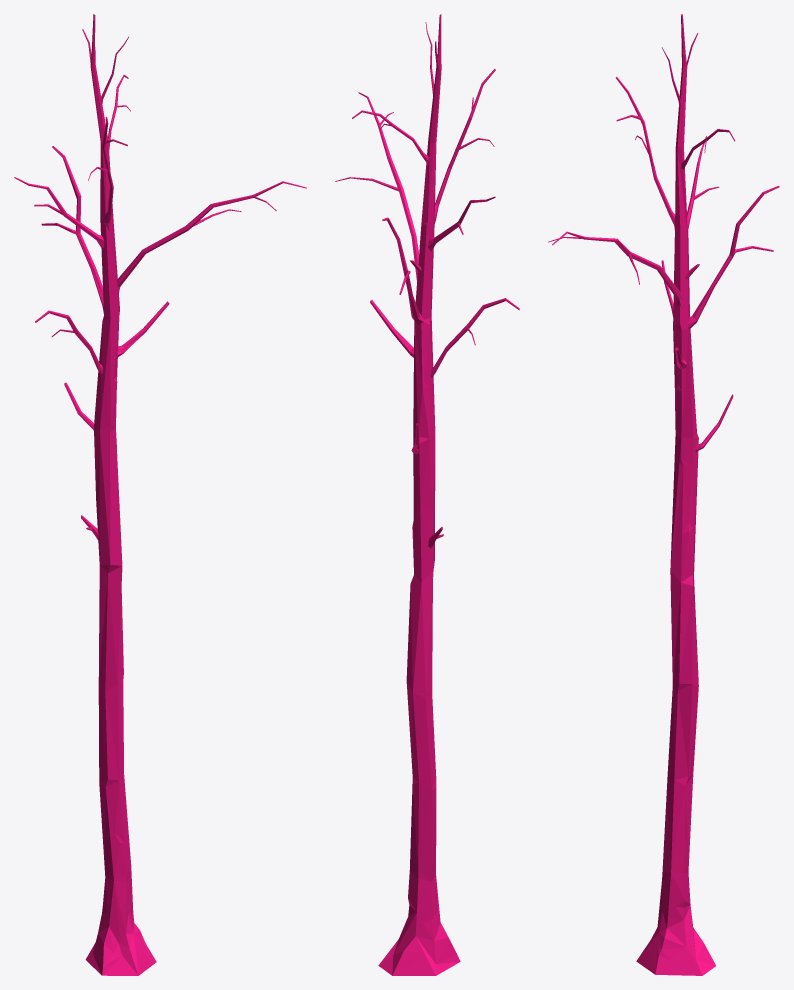
The model's file is SM_Tree_Birch_Dead_A.fbx.
3 views of the same model, side by side, from view 1: azimuth 30°, elevation 25°; view 2: azimuth 150°, elevation 25°; view 3: azimuth 270°, elevation 25° (orthographic). The views are drawn at different scales.
Parts seen in each view (by area): view 1: SM_Tree_Birch_Dead_A; view 2: SM_Tree_Birch_Dead_A; view 3: SM_Tree_Birch_Dead_A.
Part boxes in pixels (box(x1,y1,x2,y2)): SM_Tree_Birch_Dead_A: box(14, 14, 306, 975); SM_Tree_Birch_Dead_A: box(335, 14, 519, 975); SM_Tree_Birch_Dead_A: box(548, 14, 779, 975).
Size of the model in its own units: 2.27 by 9.55 by 2.14.
